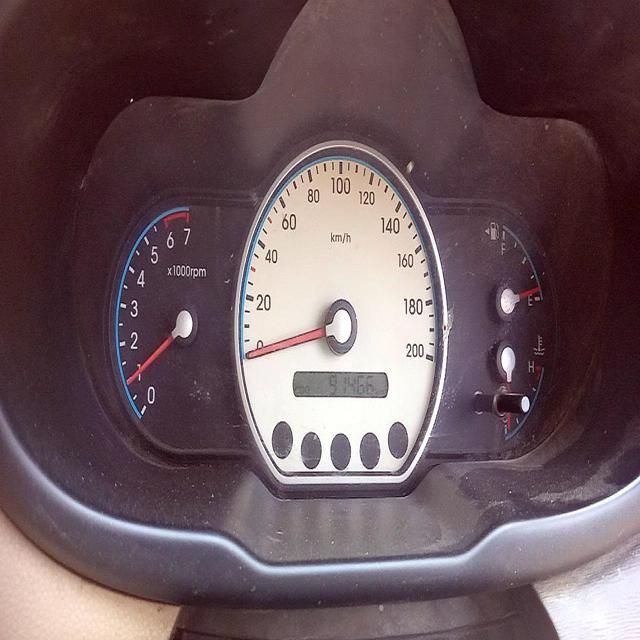odometer: (323, 366, 387, 401)
